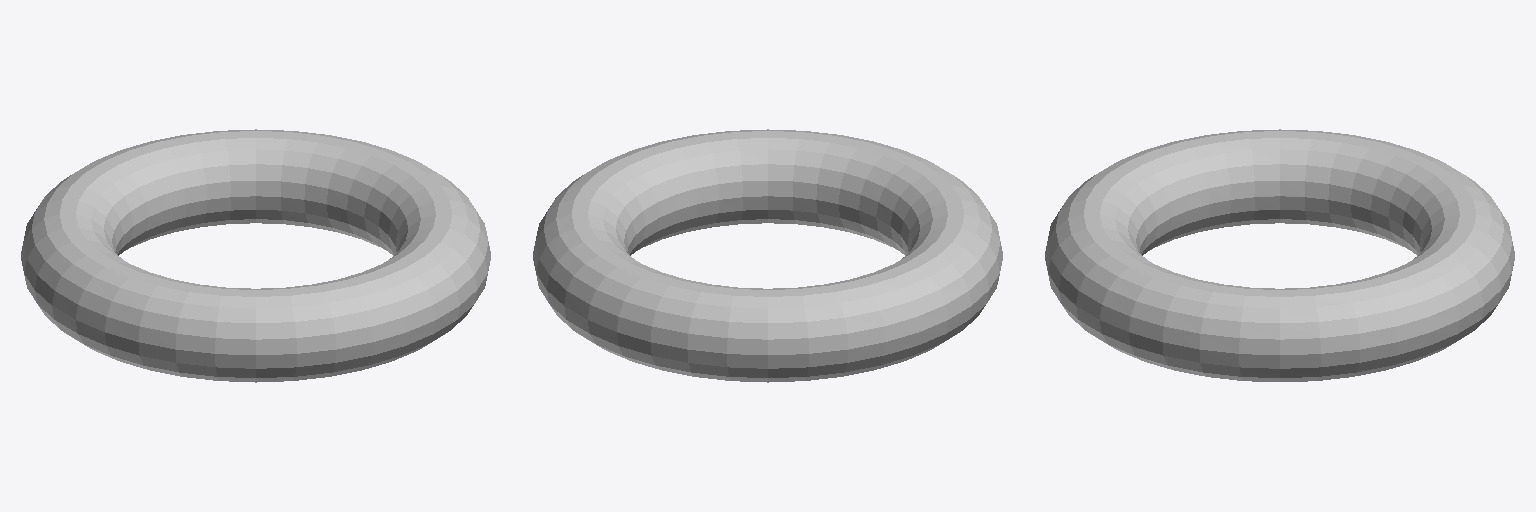
File: smog.obj
The picture shows the model from 3 angles: view 1: azimuth 30°, elevation 25°; view 2: azimuth 150°, elevation 25°; view 3: azimuth 270°, elevation 25°; orthographic projection.
Size of the model in its own units: 3.56 by 0.7005 by 3.56.